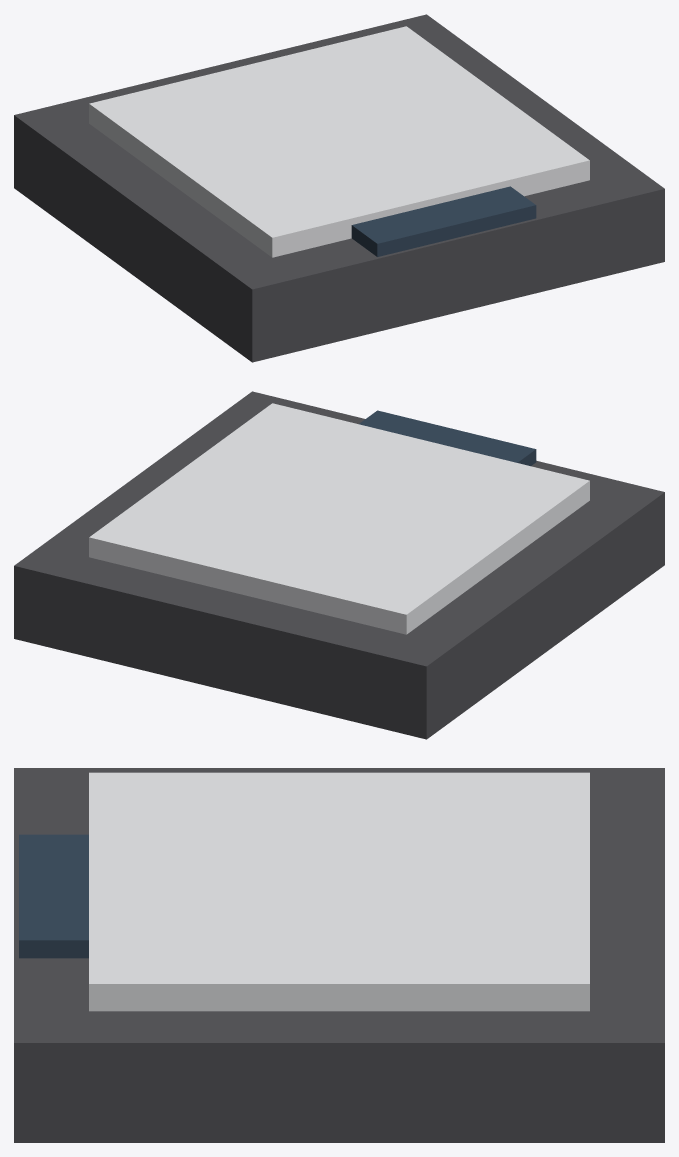
The model's file is DigitalScale.glb.
3 renders of one model, top to bottom at view 1: azimuth 30°, elevation 25°; view 2: azimuth 150°, elevation 25°; view 3: azimuth 270°, elevation 25°, orthographic. The views are drawn at different scales.
Parts seen in each view (by area): view 1: DigitalScale; view 2: DigitalScale; view 3: DigitalScale.
Part boxes in pixels (x1,y1,x2,y2): DigitalScale: (14, 14, 664, 362); DigitalScale: (14, 391, 664, 739); DigitalScale: (14, 768, 664, 1142).
Size of the model in its own units: 0.13 by 0.028 by 0.13.
